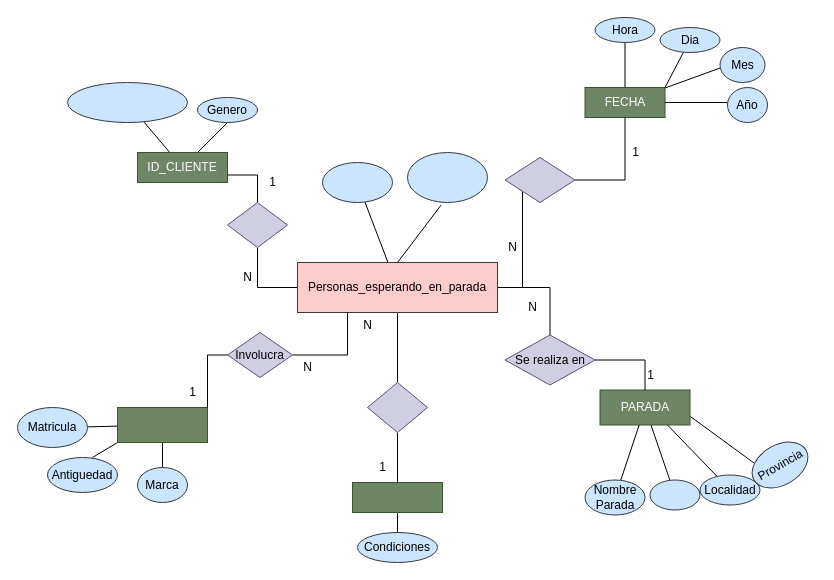
Some shapes in this 834 by 580 pixel diagram are drawn without their labels. The box of each missing label's shape, as (x1, y1, x2, y2) in pixels:
Afecta: (366, 382, 428, 432)
AVG_Espera: (406, 152, 488, 202)
Barrio: (649, 479, 700, 510)
Cantidad Persona: (322, 162, 392, 202)
CLIMA: (352, 482, 442, 512)
COLECTIVO: (116, 406, 208, 442)
Ocurre en: (504, 156, 575, 202)
Tipo_de_Cliente: (66, 82, 188, 122)
Utilza: (226, 202, 288, 248)
